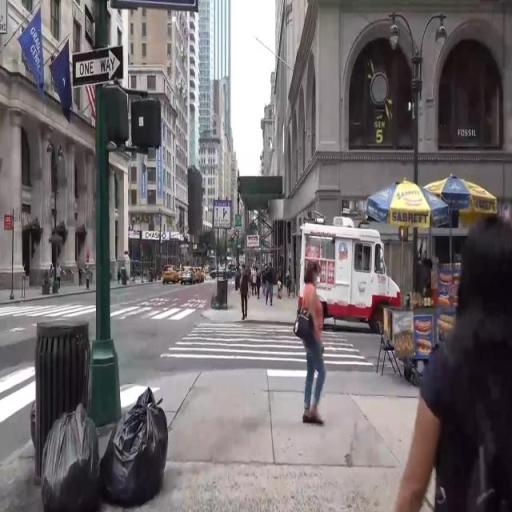person: (403, 216, 512, 512), (298, 257, 328, 427), (241, 263, 250, 324), (267, 264, 276, 311), (288, 267, 295, 302), (251, 261, 257, 299), (279, 267, 285, 304), (259, 269, 263, 306), (264, 262, 268, 295), (58, 265, 63, 289), (79, 267, 84, 290)
